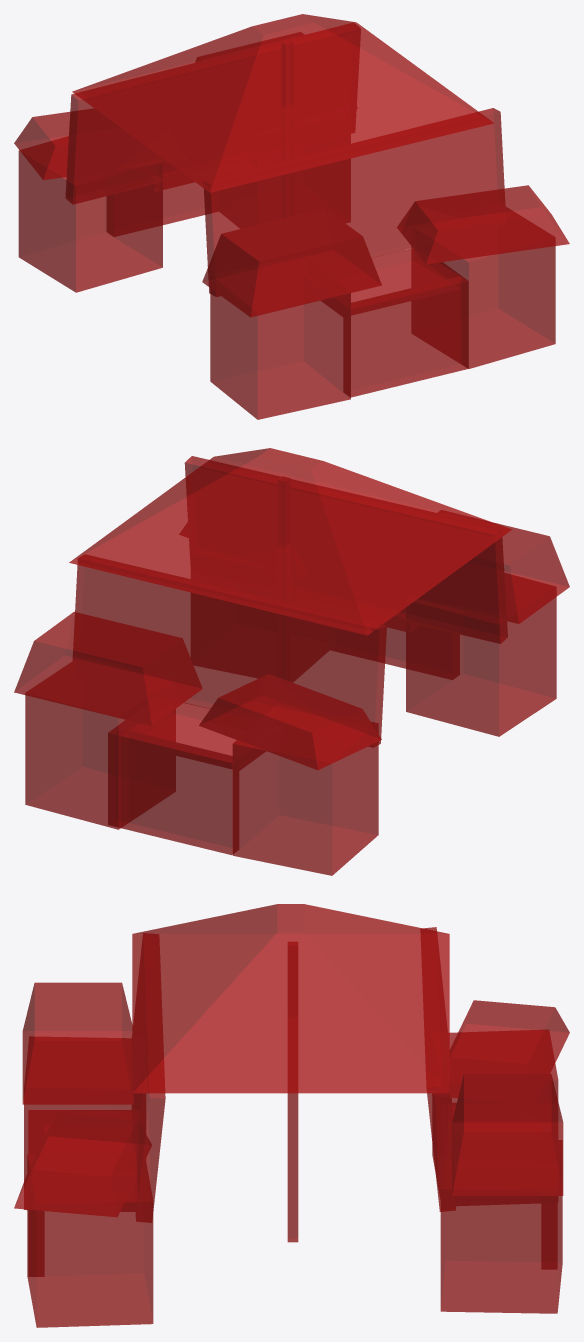
File: SM_Prop_Blanket_Fort_01_Collision.fbx
The picture shows the model from 3 angles, top to bottom: view 1: azimuth 30°, elevation 25°; view 2: azimuth 150°, elevation 25°; view 3: azimuth 270°, elevation 25°; orthographic projection. The views are drawn at different scales.
Parts seen in each view (by area): view 1: SM_Prop_Blanket_Fort_01_Collision; view 2: SM_Prop_Blanket_Fort_01_Collision; view 3: SM_Prop_Blanket_Fort_01_Collision.
Part boxes in pixels (x1=…): SM_Prop_Blanket_Fort_01_Collision: x1=14, y1=14, x2=569, y2=419; SM_Prop_Blanket_Fort_01_Collision: x1=14, y1=448, x2=569, y2=875; SM_Prop_Blanket_Fort_01_Collision: x1=14, y1=904, x2=569, y2=1327.
Size of the model in its own units: 206 by 158 by 250.
